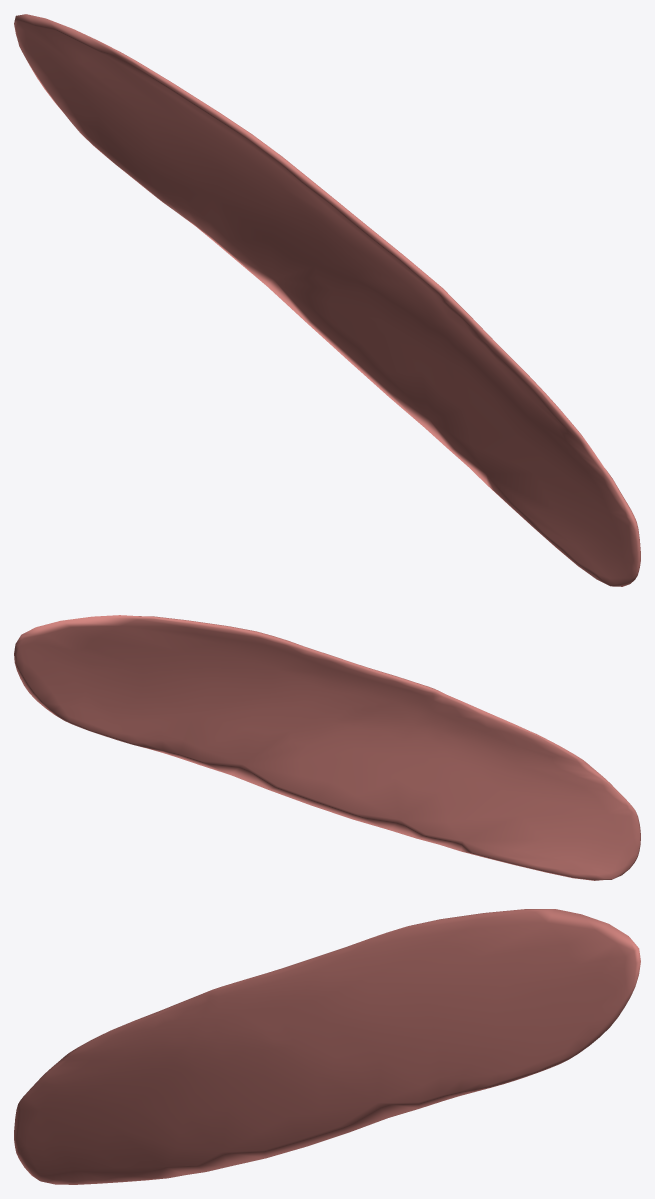
3 views of the same model, one above another, from view 1: azimuth 90°, elevation 25°; view 2: azimuth 150°, elevation 25°; view 3: azimuth 270°, elevation 25° (orthographic). The views are drawn at different scales.
Parts seen in each view (by area): view 1: ZA_b2c3f756b77da56c; view 2: ZA_b2c3f756b77da56c; view 3: ZA_b2c3f756b77da56c.
Boxes of the visible parts, <box> form: ZA_b2c3f756b77da56c: <box>14,14,640,586</box>; ZA_b2c3f756b77da56c: <box>14,615,640,880</box>; ZA_b2c3f756b77da56c: <box>14,909,640,1184</box>.
Bounding box in the file's own units: 0.0277 × 0.0291 × 0.0401.
